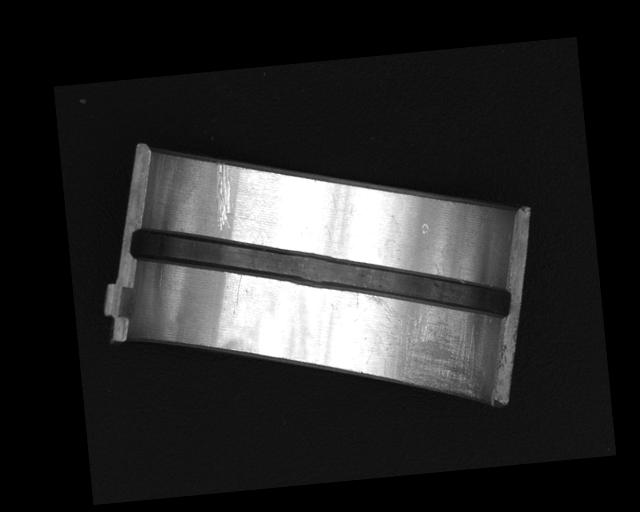bruise: (419, 222, 429, 234)
gap: (126, 194, 512, 353)
nick: (210, 160, 235, 233), (227, 272, 245, 315)
scratch: (363, 282, 493, 409)
